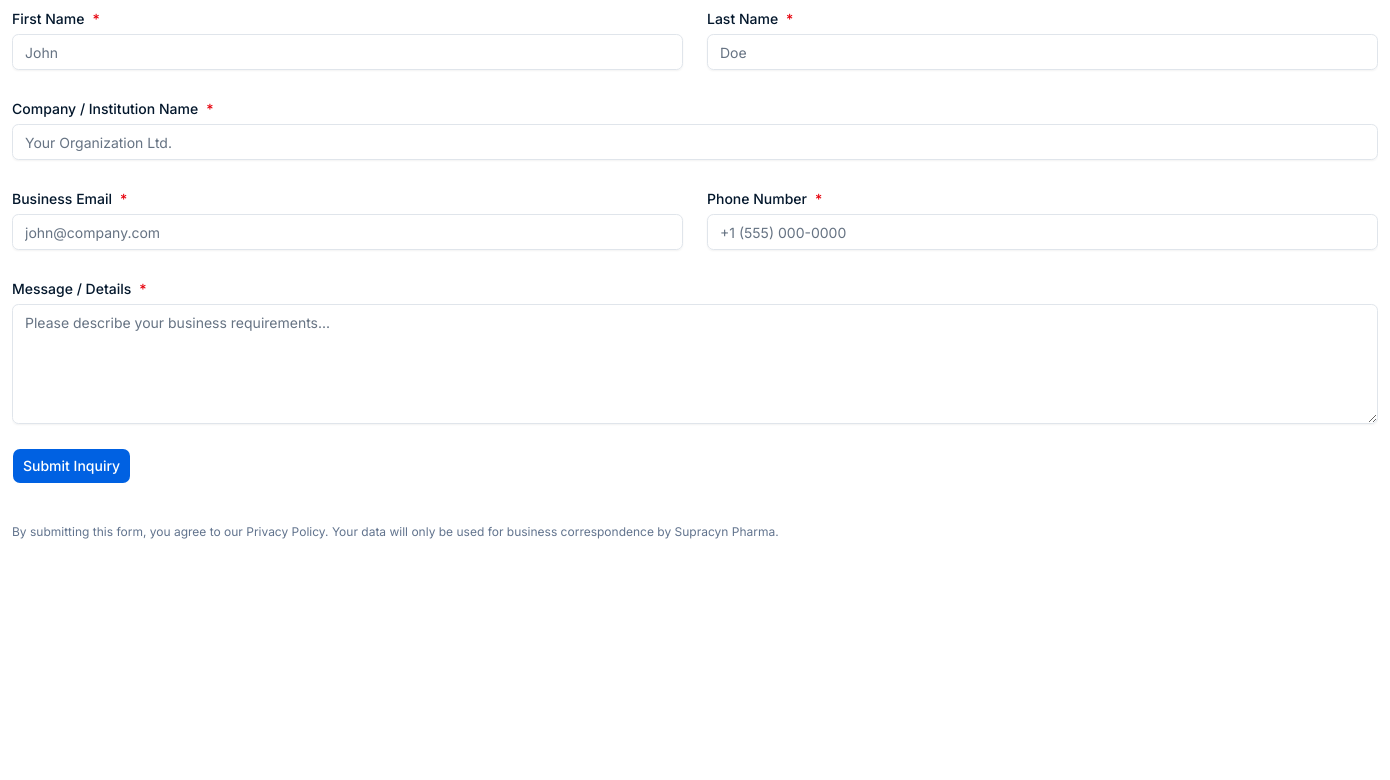
Test: InquiryForm › shows validation error for invalid email format
Type "not-an-email" into the field labelled "Business Email *" at (348, 232), box [12,214,683,250]
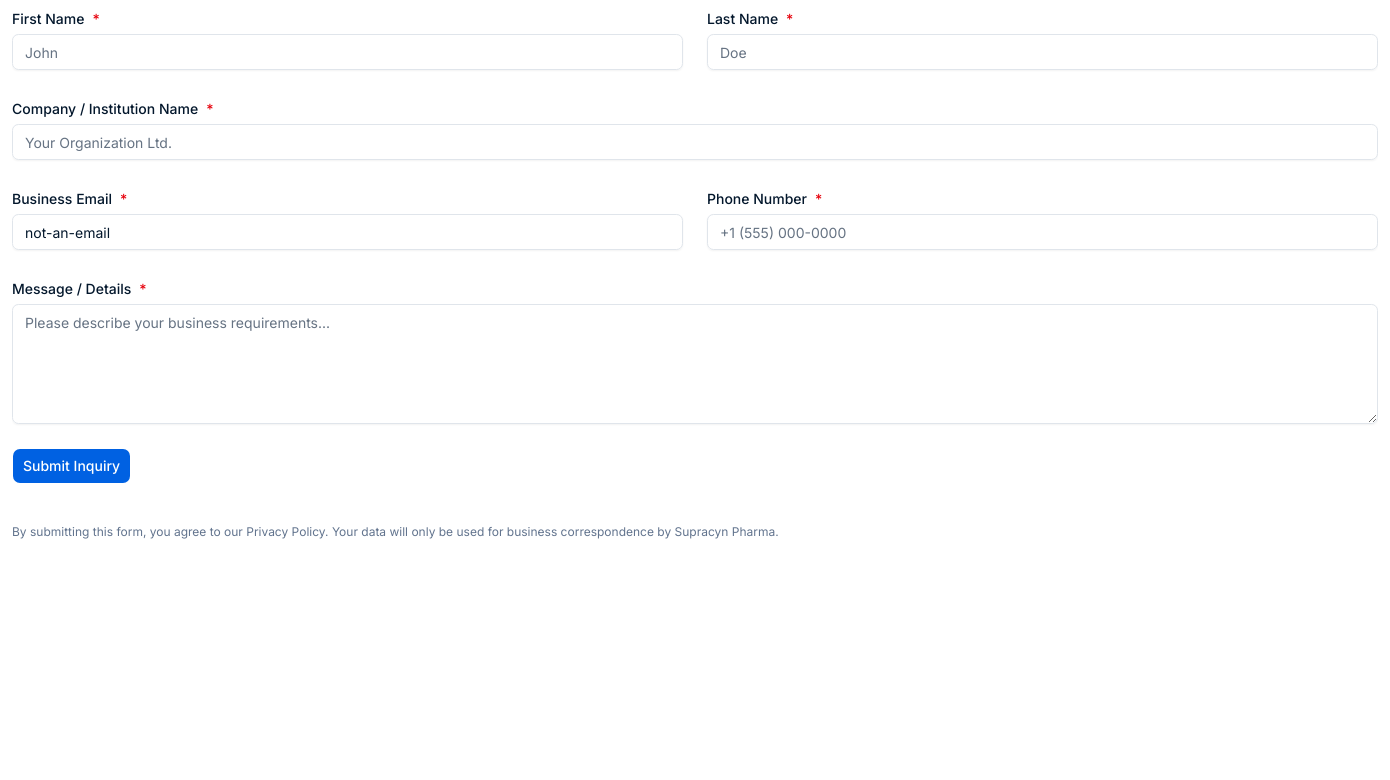
# Trigger onTouched validation by blurring
Leave the field labelled "Business Email *", box [12,214,683,250]
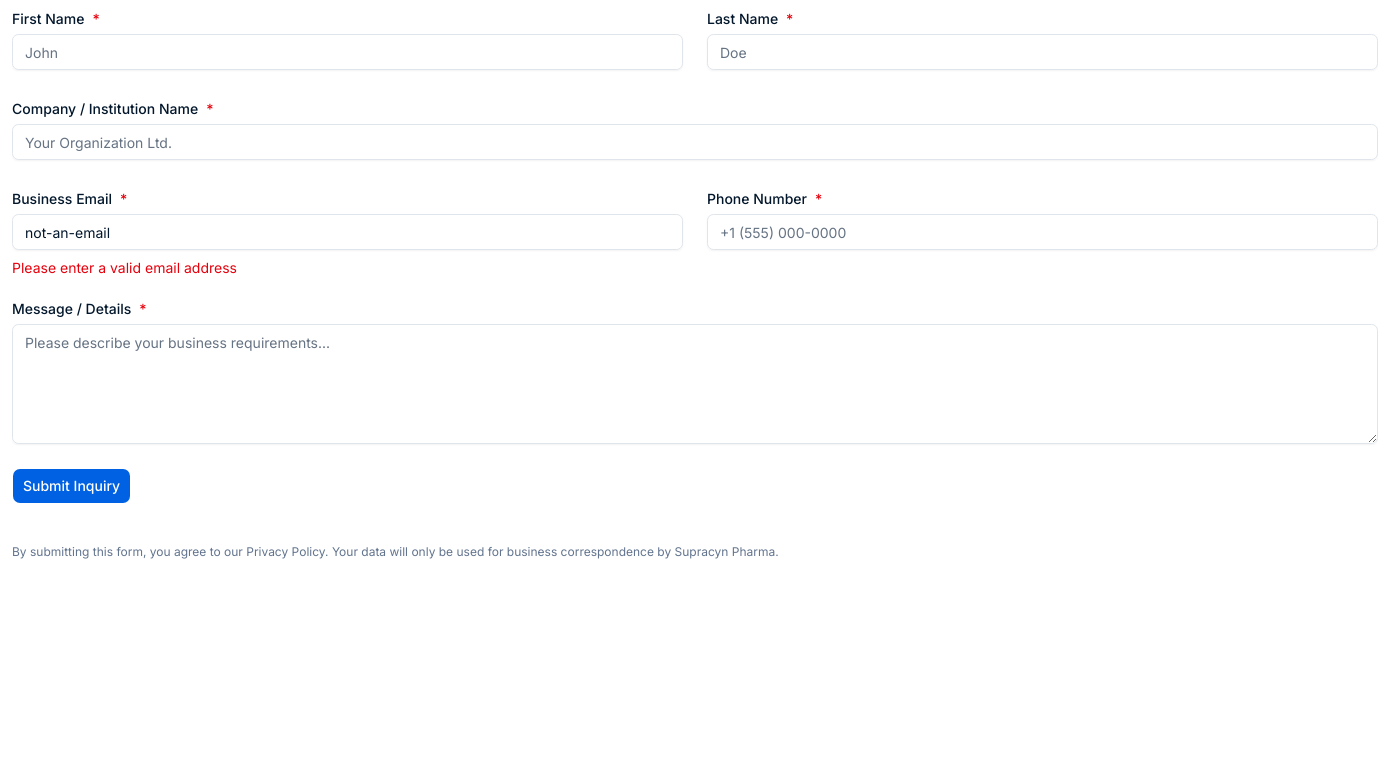
Check: the text "Please enter a valid email address" is shown, box [12,259,237,276]
